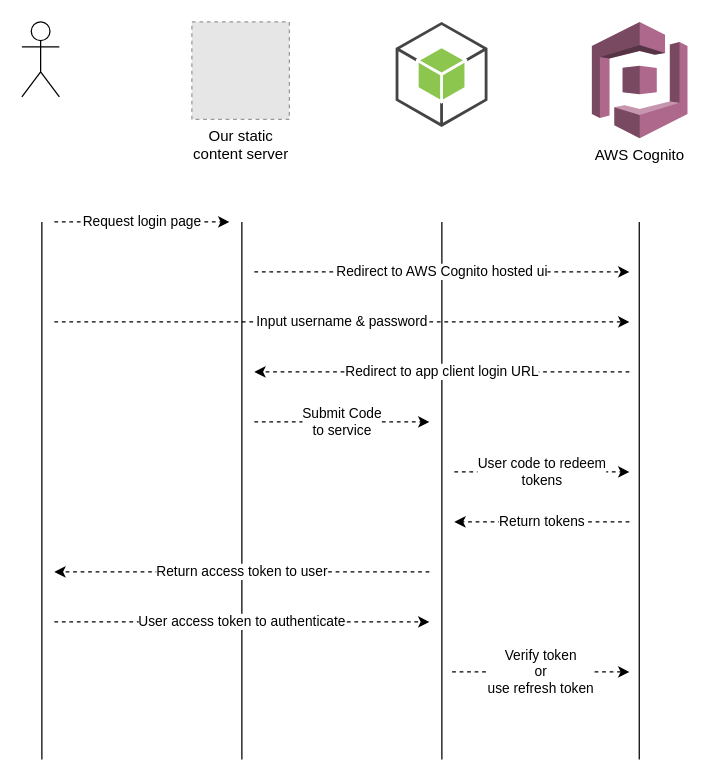
This 710x783 diagram has some shape labels left out. Grey dashed boxes stand in for pictures. The centre of each missing label's shape, as x and y in pixels:
Our service: (x=441, y=74)
User: (x=40, y=59)
